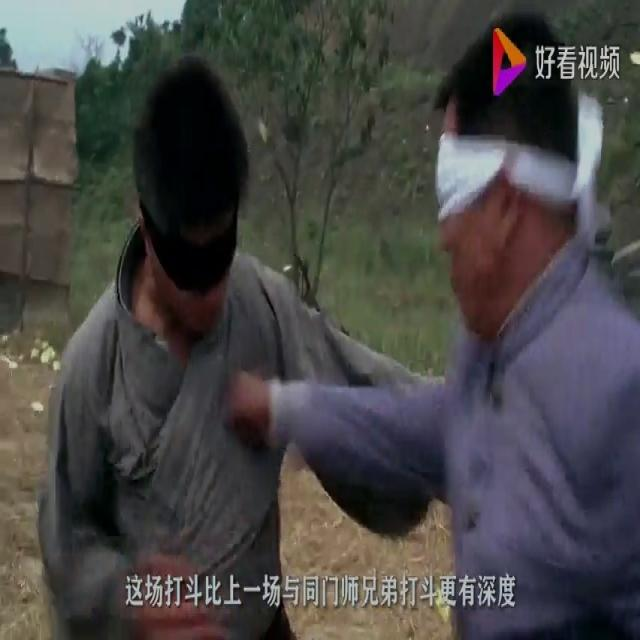fight: (39, 0, 639, 639)
